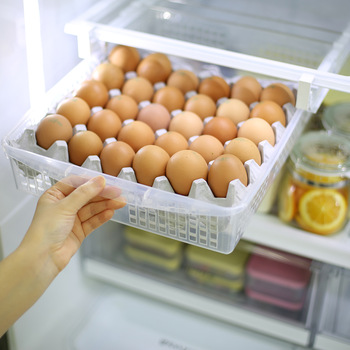egg: (36, 44, 295, 208)
